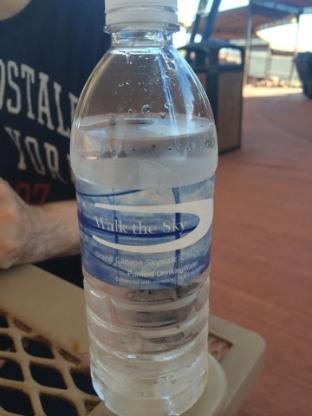Plastic Bottle: (68, 0, 218, 416)
